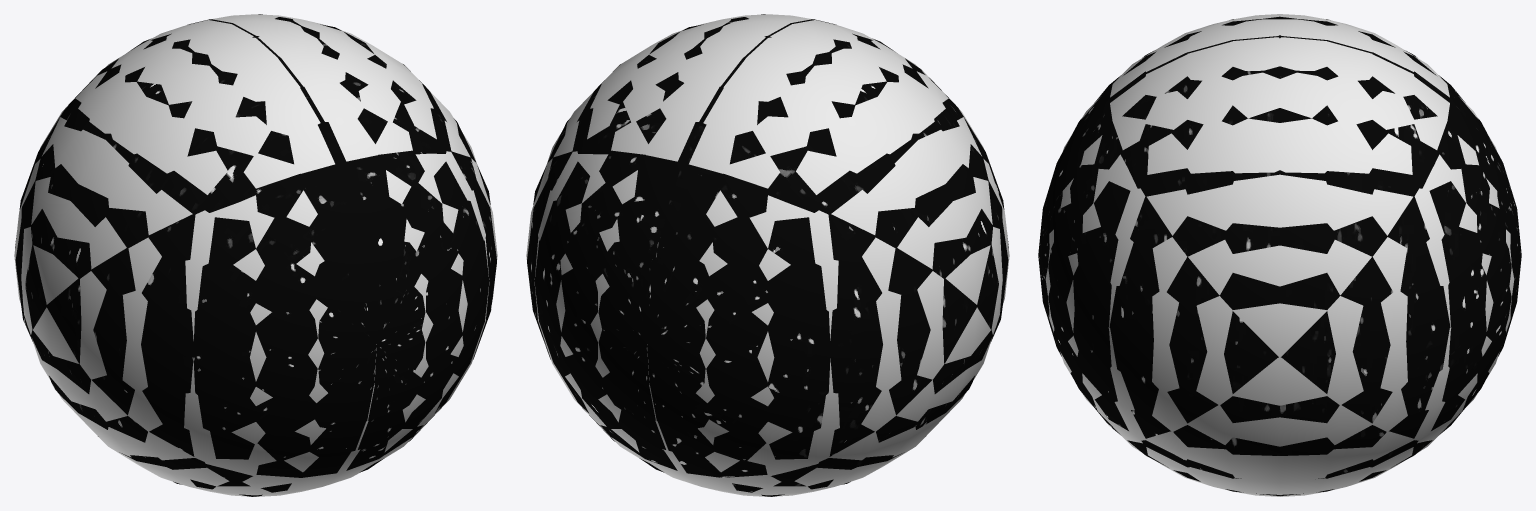
3 renders of one model, left to right at view 1: azimuth 30°, elevation 25°; view 2: azimuth 150°, elevation 25°; view 3: azimuth 270°, elevation 25°, orthographic.
Visible parts, largest first — view 1: SM_BossSoul_Inner_OuterDungeon_LOD0; view 2: SM_BossSoul_Inner_OuterDungeon_LOD0; view 3: SM_BossSoul_Inner_OuterDungeon_LOD0.
Part boxes in pixels (x1=…): SM_BossSoul_Inner_OuterDungeon_LOD0: x1=14, y1=14, x2=497, y2=496; SM_BossSoul_Inner_OuterDungeon_LOD0: x1=526, y1=14, x2=1009, y2=496; SM_BossSoul_Inner_OuterDungeon_LOD0: x1=1038, y1=14, x2=1521, y2=496.
Bounding box in the file's own units: 0.4 × 0.4001 × 0.4.
Materials: 2 (1 with a texture image).
